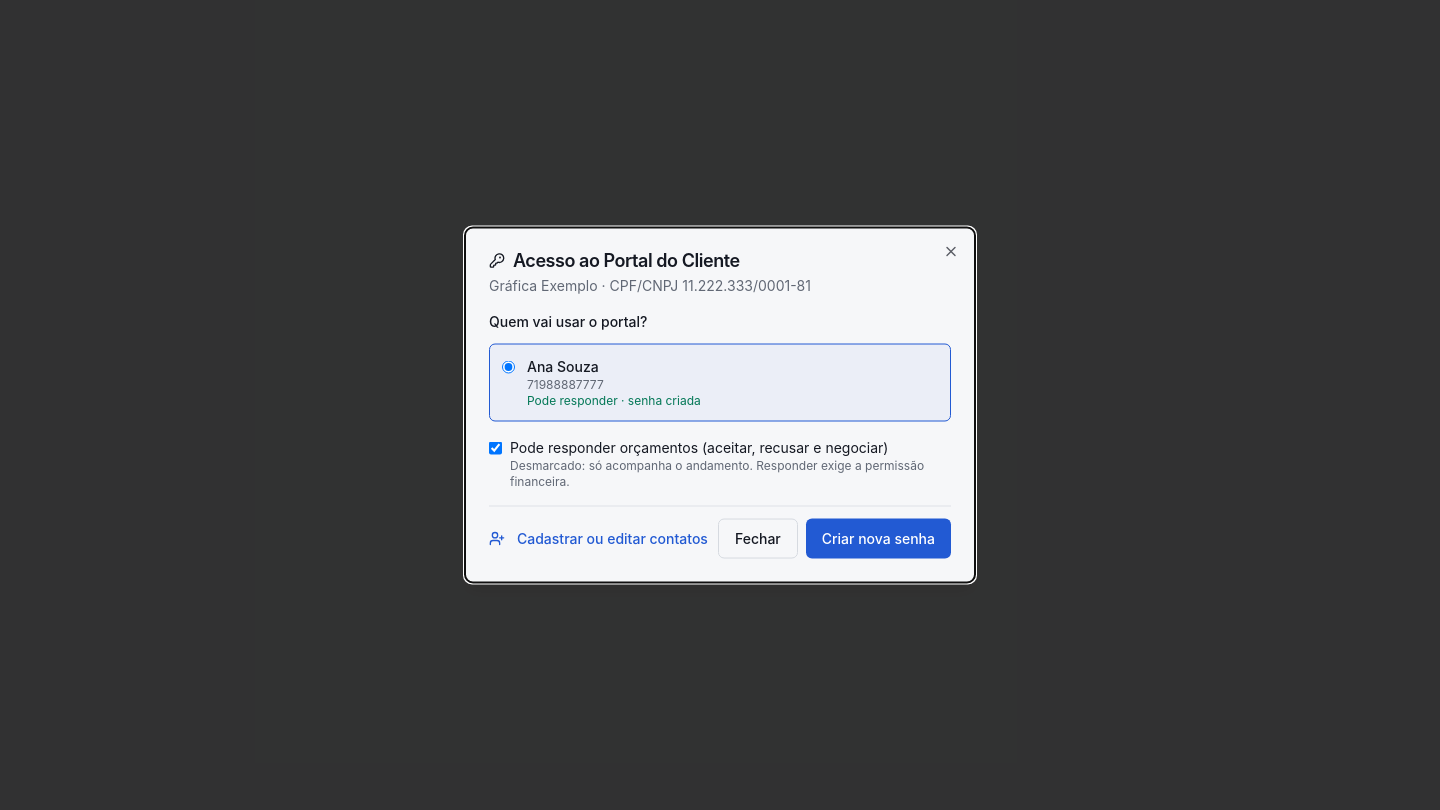
Test: AcessoPortalDialog › contato que já responde com senha só oferece criar nova senha, sem mudar o acesso
Click the button "Criar nova senha" at point(878, 538), box [806,518,951,558]
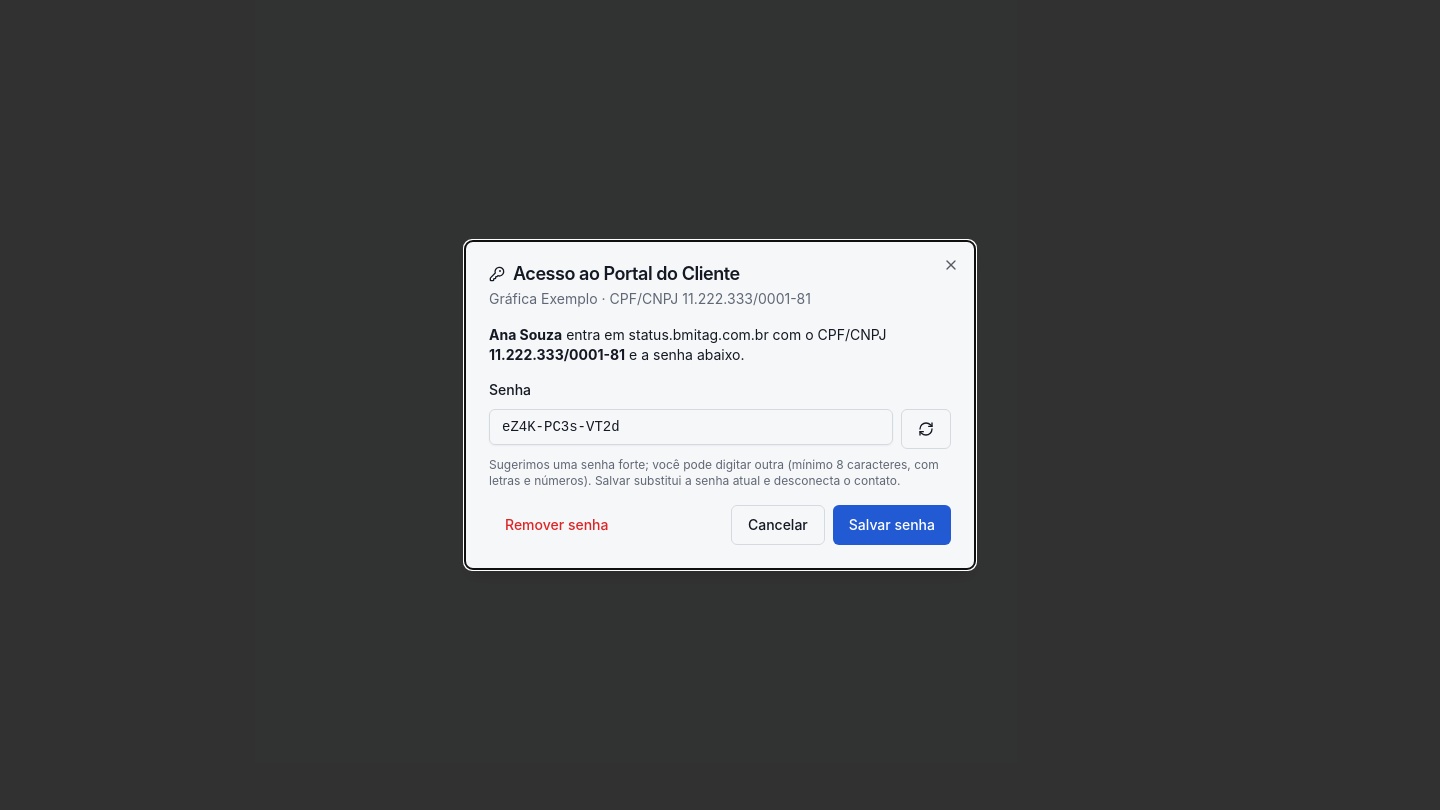
Check: the field labelled "Senha" is shown, box [489,409,893,445]
